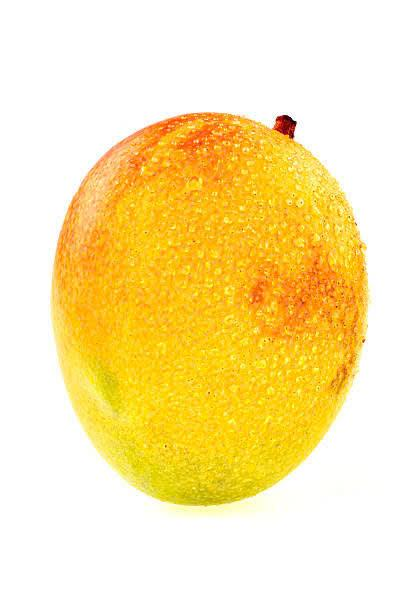mango: (21, 43, 356, 515)
